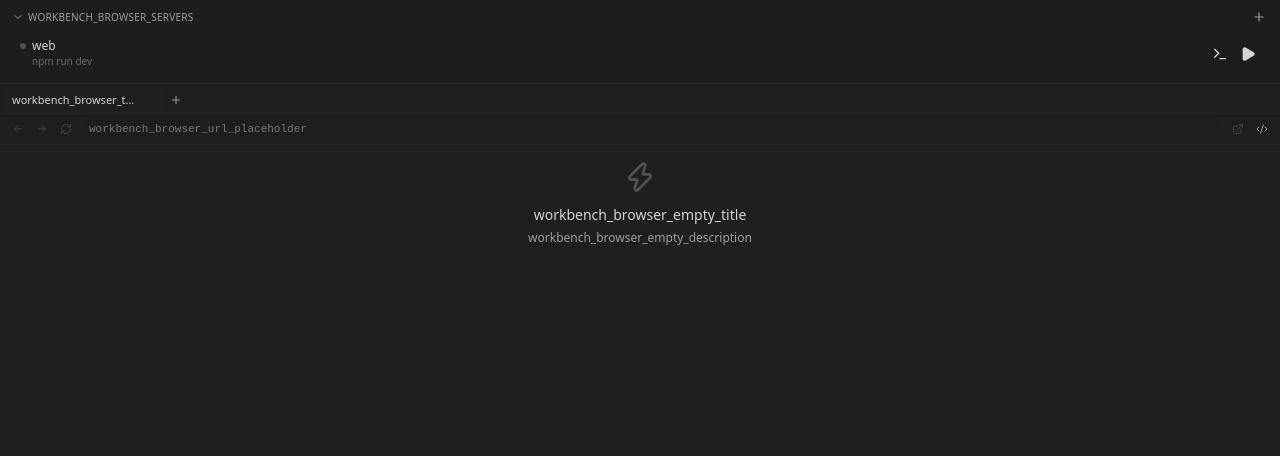
BrowserTab — servidores de dev (paridade com o antigo Preview) › recolher os servidores não fecha o formulário de adicionar manualmente por engano (botões independentes)
Click the button titled "workbench_browser_manual_add" at (1259, 17), box [1250,8,1268,26]
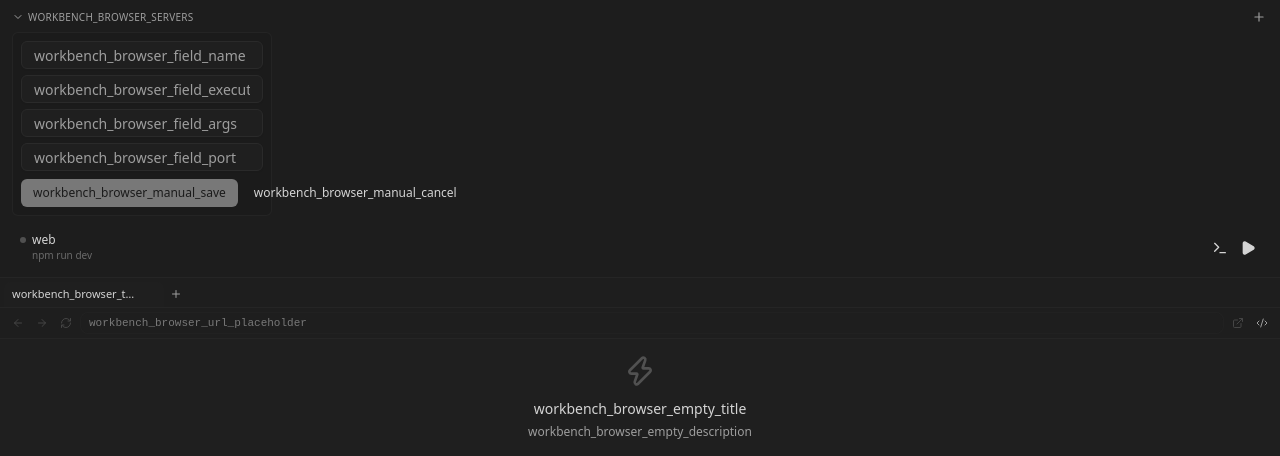
Now the field with placeholder "workbench_browser_field_name" is shown, box [21,41,263,69]
Click the button titled "workbench_browser_servers_collapse" at (103, 17), box [12,10,194,24]
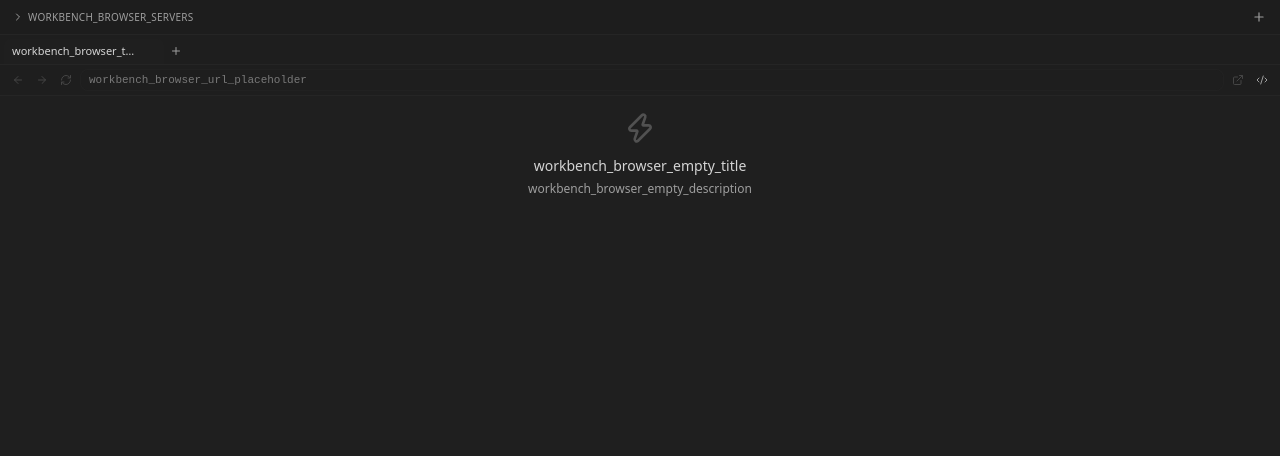
Now the field with placeholder "workbench_browser_field_name" is gone
Click the button titled "workbench_browser_servers_expand" at (103, 17), box [12,10,194,24]
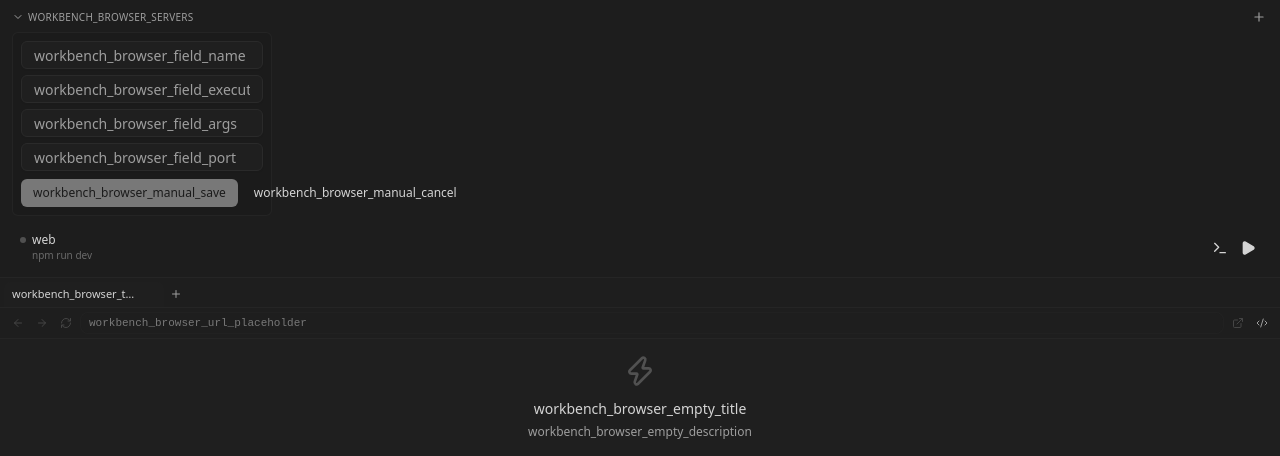
Now the field with placeholder "workbench_browser_field_name" is shown, box [21,41,263,69]
